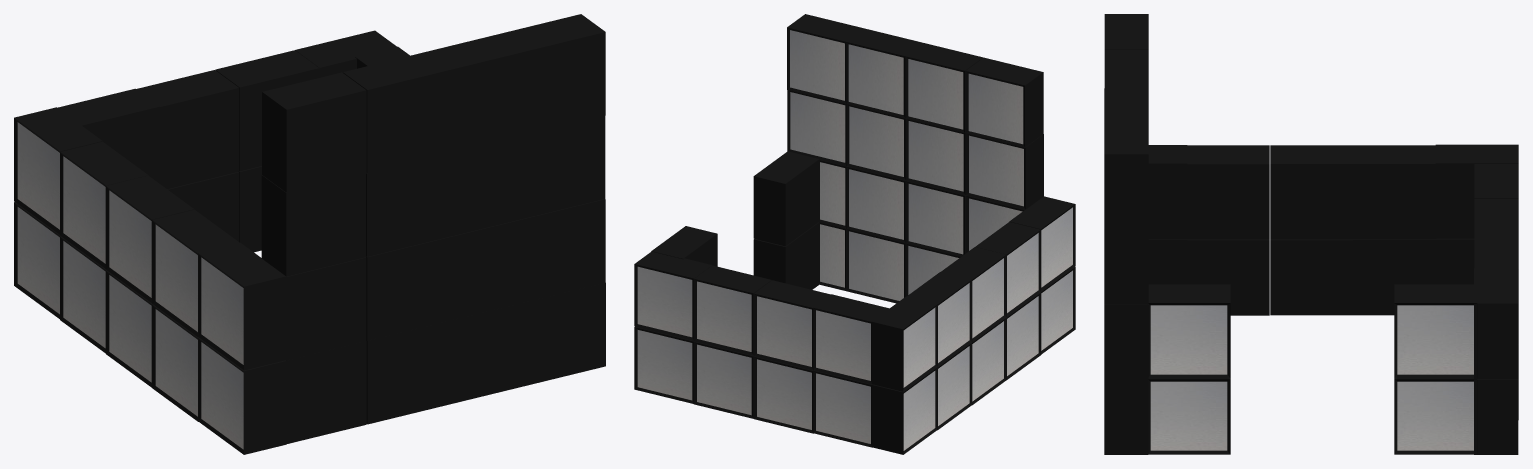
Rendered from reception.glb.
3 views of the same model, side by side, from view 1: azimuth 30°, elevation 25°; view 2: azimuth 150°, elevation 25°; view 3: azimuth 270°, elevation 25° (orthographic). The views are drawn at different scales.
Visible parts, largest first — view 1: Cube.026, Cube.006, Cube.028, Cube.023, Cube.011, Cube.031, Cube.035, Cube.003, Cube.022, Cube.020, Cube.029, Cube.024 (+21 smaller); view 2: Cube.026, Cube.005, Cube.037, Cube.023, Cube.010, Cube.028, Cube.031, Cube.035, Cube.011, Cube.012, Cube.013, Cube.004 (+24 smaller); view 3: Cube.008, Cube.007, Cube.009, Cube.037, Cube.014, Cube, Cube.036, Cube.015, Cube.002, Cube.001, Cube.035, Cube.012 (+14 smaller).
Boxes of the visible parts, x1,y1,x2,y2 form: Cube.026: (262,72,366,192); Cube.006: (198,242,286,370); Cube.028: (261,173,365,276); Cube.023: (343,52,447,172); Cube.011: (136,70,239,188); Cube.031: (423,33,526,153); Cube.035: (503,14,605,133); Cube.003: (198,337,286,454); Cube.022: (366,321,447,424); Cube.020: (366,237,446,340); Cube.029: (286,257,366,360); Cube.024: (525,199,605,301); Cube.026: (965,57,1043,147); Cube.005: (871,296,937,391); Cube.037: (753,151,819,246); Cube.023: (905,43,983,133); Cube.010: (693,265,771,355); Cube.028: (966,133,1043,209); Cube.031: (845,28,922,118); Cube.035: (787,14,863,104); Cube.011: (754,280,830,370); Cube.012: (634,251,712,340); Cube.013: (813,294,889,384); Cube.004: (871,367,937,454); Cube.008: (1186,145,1269,239); Cube.007: (1353,145,1435,239); Cube.009: (1270,145,1352,239); Cube.037: (1147,284,1230,378); Cube.014: (1394,284,1477,378); Cube: (1270,239,1352,315); Cube.036: (1148,378,1230,454); Cube.015: (1394,378,1477,454); Cube.002: (1353,239,1435,315); Cube.001: (1186,239,1269,315); Cube.035: (1104,119,1148,229); Cube.012: (1474,268,1518,378).
Size of the model in its own units: 7.09 by 6.27 by 7.81.
20 materials, 10 textured.
